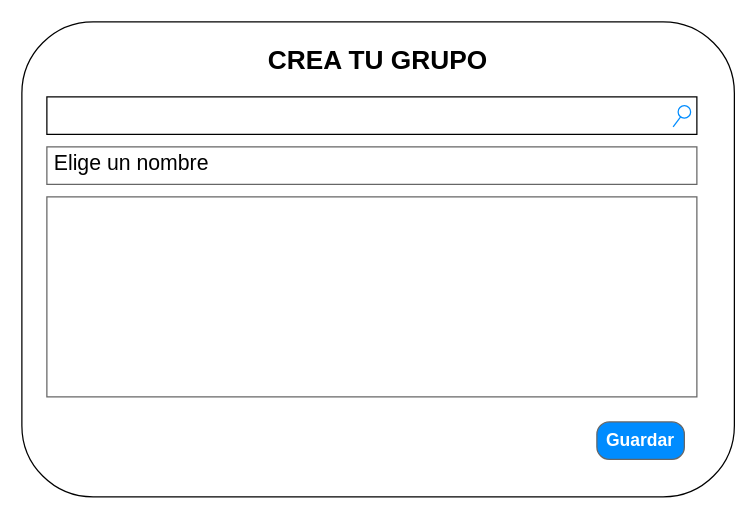
This 756x519 diagram has some shape labels left out. Here are the shapes that lost their labels. From the top down, the centre of each, then its label:
the point at 371,115: ¿Dónde se reunirá tu grupo?
the point at 371,296: Introduce una pequeña descripción:
